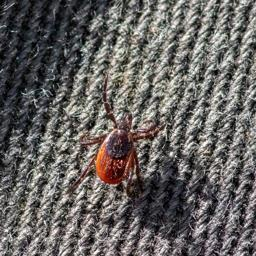Ixodes scapularis: (77, 74, 167, 191)
